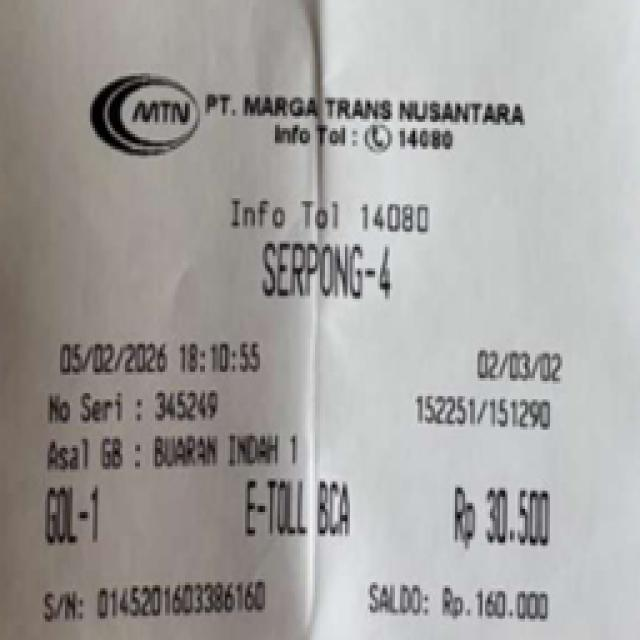date: (58, 333, 270, 386)
store: (205, 83, 532, 131)
total: (448, 480, 564, 560)
